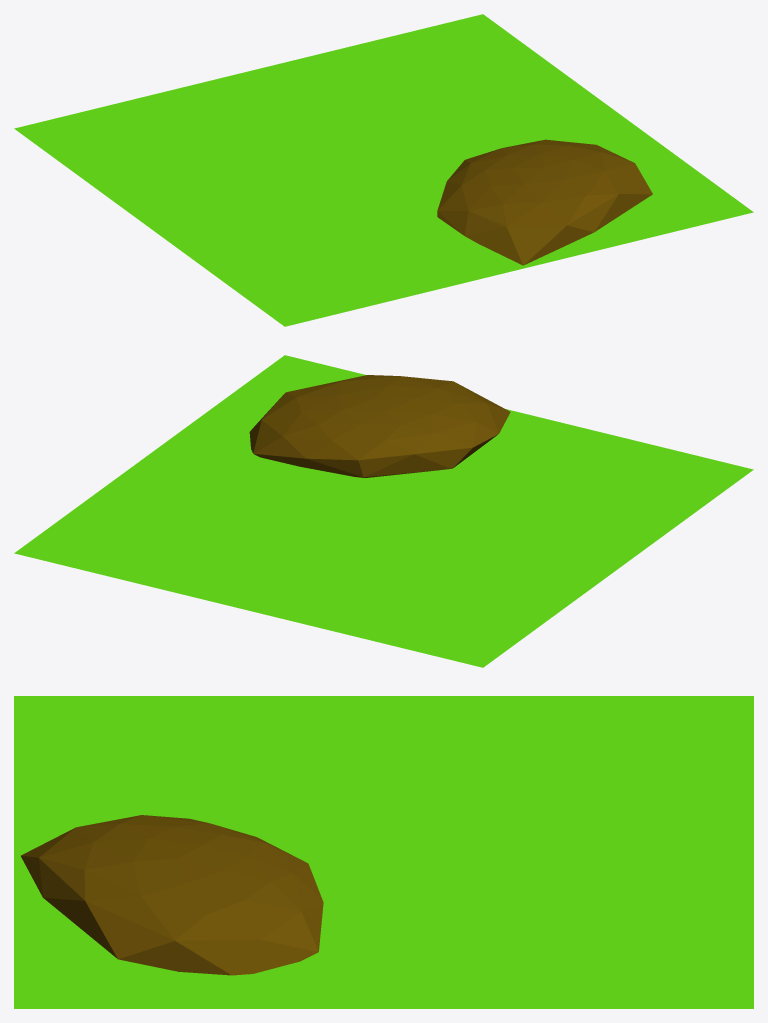
The model's file is FloorGrassWithRock.glb.
The picture shows the model from 3 angles, top to bottom: view 1: azimuth 30°, elevation 25°; view 2: azimuth 150°, elevation 25°; view 3: azimuth 270°, elevation 25°; orthographic projection. The views are drawn at different scales.
Visible parts, largest first — view 1: Cube, Icosphere; view 2: Cube, Icosphere; view 3: Cube, Icosphere.
Boxes of the visible parts, x1,y1,x2,y2 form: Cube: (14,14,753,326); Icosphere: (437,139,652,265); Cube: (14,355,753,667); Icosphere: (249,375,510,477); Cube: (14,696,753,1008); Icosphere: (21,815,323,975).
Size of the model in its own units: 2 by 0.274 by 2.
